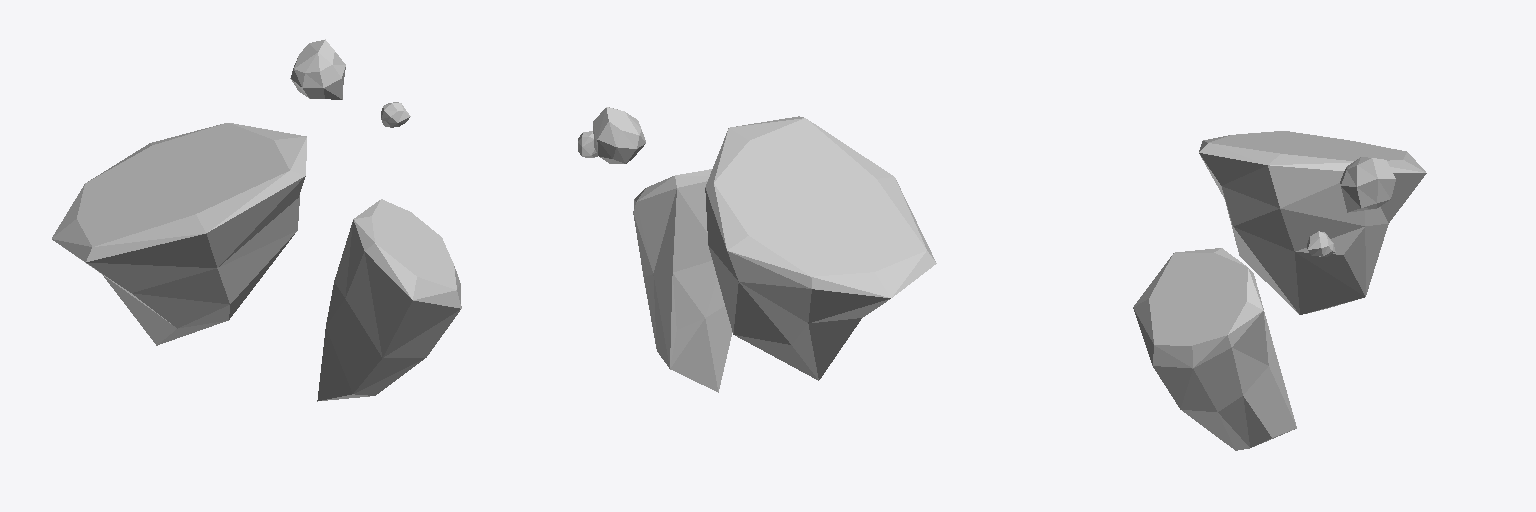
File: Floating_Island_group_1.obj
3 views of the same model, side by side, from view 1: azimuth 30°, elevation 25°; view 2: azimuth 150°, elevation 25°; view 3: azimuth 270°, elevation 25° (orthographic).
Parts seen in each view (by area): view 1: Box114, Box115, Sphere003, Sphere004; view 2: Box114, Box115, Sphere003; view 3: Box114, Box115, Sphere003, Sphere004.
Part boxes in pixels (bbox=[...]): Box114: bbox=[52, 123, 306, 345]; Box115: bbox=[317, 199, 461, 401]; Sphere003: bbox=[290, 39, 345, 99]; Sphere004: bbox=[381, 102, 410, 127]; Box114: bbox=[705, 116, 936, 380]; Box115: bbox=[633, 169, 732, 392]; Sphere003: bbox=[593, 107, 645, 163]; Box114: bbox=[1199, 131, 1426, 314]; Box115: bbox=[1133, 248, 1296, 450]; Sphere003: bbox=[1340, 157, 1395, 212]; Sphere004: bbox=[1307, 231, 1335, 256].
Size of the model in its own units: 64.19 by 55.92 by 48.17.